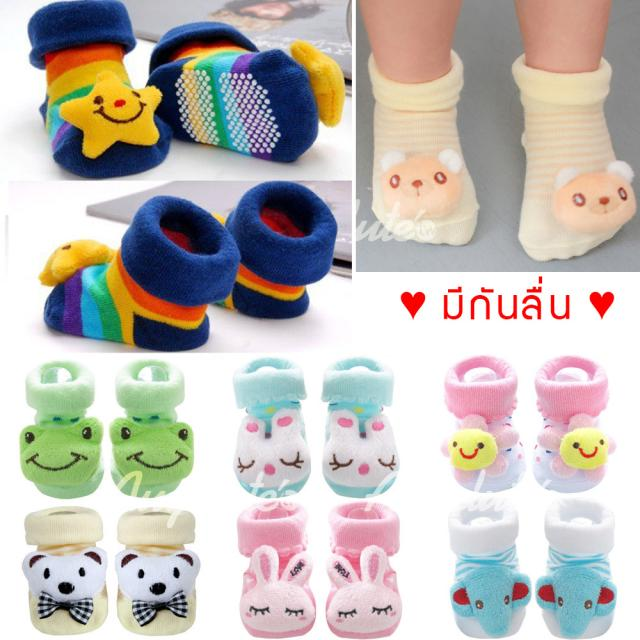sock: (39, 194, 241, 351), (511, 52, 636, 262), (27, 0, 172, 179), (367, 48, 480, 246)
